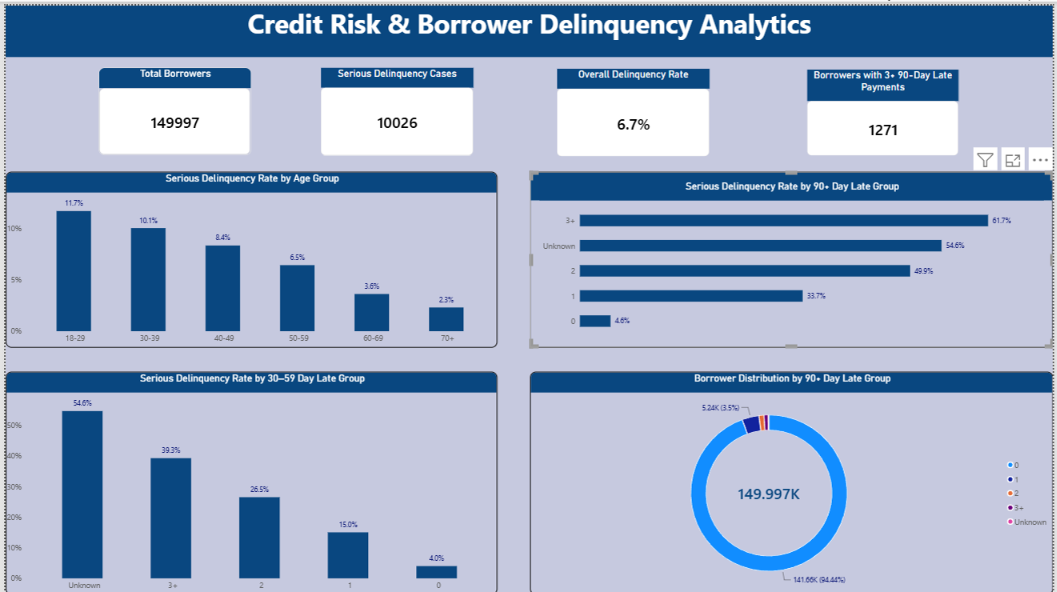

The dashboard page shown, as its layout file describes it:
{"tool":"powerbi","page":{"name":"Page 1","canvas":[1920,1080],"ordinal":0},"visuals":[{"type":"cardVisual","title":"Total Borrowers","fields":{"Data":["Count(credit_risk_clean.Unnamed: 0)"]},"box":[170.8,113.2,279.9,161.1],"z":0},{"type":"cardVisual","title":"Serious Delinquency Cases","fields":{"Data":["Sum(credit_risk_clean.SeriousDlqin2yrs)"]},"box":[578.6,113.2,279.9,161.1],"z":1000},{"type":"cardVisual","title":"Overall Delinquency Rate","fields":{"Data":["credit_risk_clean.Overall Delinquency Rate"]},"box":[1010.6,115,279.9,161.1],"z":2000},{"type":"cardVisual","title":"Borrowers with 3+ 90-Day Late Payments","fields":{"Data":["CountNonNull(credit_risk_clean.Late_90Plus_Group)"]},"box":[1469.6,117.3,277.9,158.5],"z":3000},{"type":"columnChart","title":"Serious Delinquency Rate by Age Group","fields":{"Category":["credit_risk_clean.Age_Group"],"Y":["credit_risk_clean.Overall Delinquency Rate"]},"box":[0,304.6,901.5,323.2],"z":4000},{"type":"clusteredBarChart","title":"Serious Delinquency Rate by 90+ Day Late Group","fields":{"Category":["credit_risk_clean.Late_90Plus_Group"],"Y":["credit_risk_clean.Overall Delinquency Rate"]},"box":[961.2,304.6,959.2,323.2],"z":5000},{"type":"clusteredColumnChart","title":"Serious Delinquency Rate by 30–59 Day Late Group","fields":{"Category":["credit_risk_clean.Late_30_59_Group"],"Y":["credit_risk_clean.Overall Delinquency Rate"]},"box":[0,671,901.5,409.6],"z":6000},{"type":"donutChart","title":"Borrower Distribution by 90+ Day Late Group","fields":{"Category":["credit_risk_clean.Late_90Plus_Group"],"Y":["CountNonNull(credit_risk_clean.Late_90Plus_Group)"]},"box":[961.2,671,959.2,409.6],"z":7000},{"type":"textbox","box":[0,0,1920.4,94.7],"z":8000}]}

Visuals, with their boxes in screenshot pixels (x1, y1, x2, y2), scaled from the page's 1920x1080 canvas onto the 1057x592 screenshot:
"Total Borrowers" cardVisual: bbox=[94, 62, 248, 150]
"Serious Delinquency Cases" cardVisual: bbox=[319, 62, 473, 150]
"Overall Delinquency Rate" cardVisual: bbox=[556, 63, 710, 151]
"Borrowers with 3+ 90-Day Late Payments" cardVisual: bbox=[809, 64, 962, 151]
"Serious Delinquency Rate by Age Group" columnChart: bbox=[0, 167, 496, 344]
"Serious Delinquency Rate by 90+ Day Late Group" clusteredBarChart: bbox=[529, 167, 1056, 344]
"Serious Delinquency Rate by 30–59 Day Late Group" clusteredColumnChart: bbox=[0, 368, 496, 591]
"Borrower Distribution by 90+ Day Late Group" donutChart: bbox=[529, 368, 1056, 591]
textbox: bbox=[0, 0, 1056, 52]
